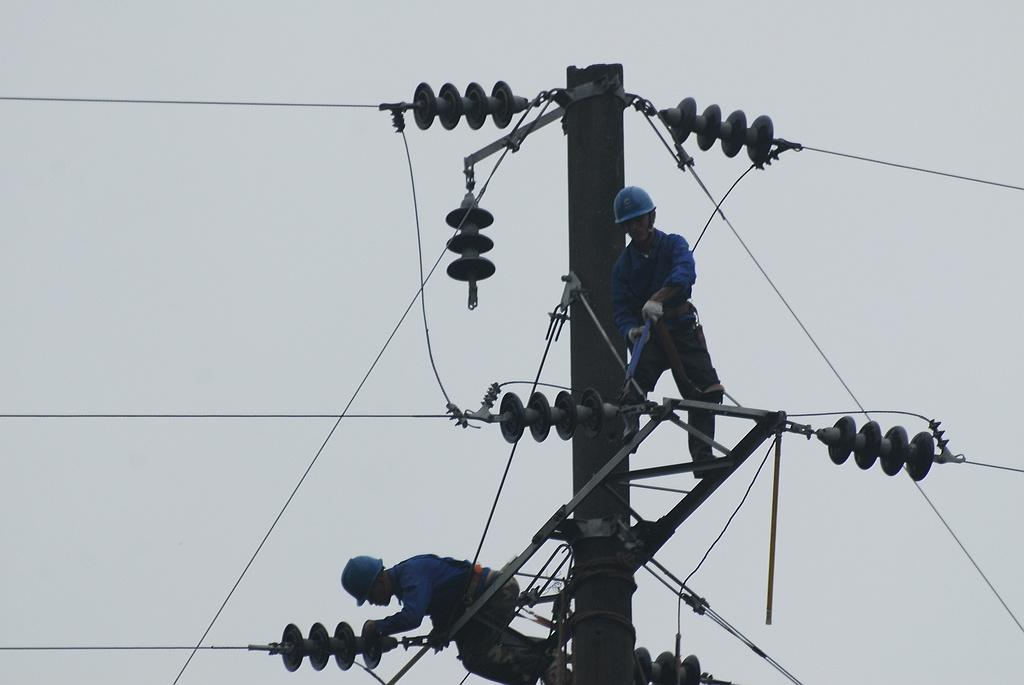Helmet: (614, 185, 657, 236)
